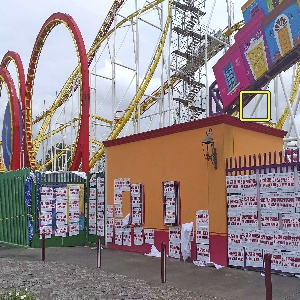square: (238, 89, 272, 123)
